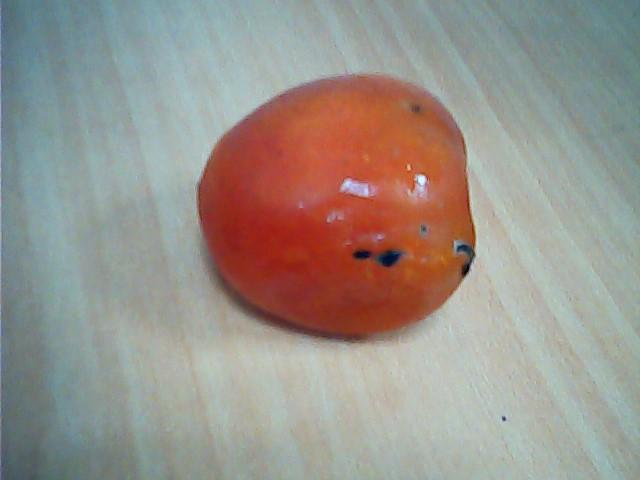defectuoso: (195, 72, 479, 338)
